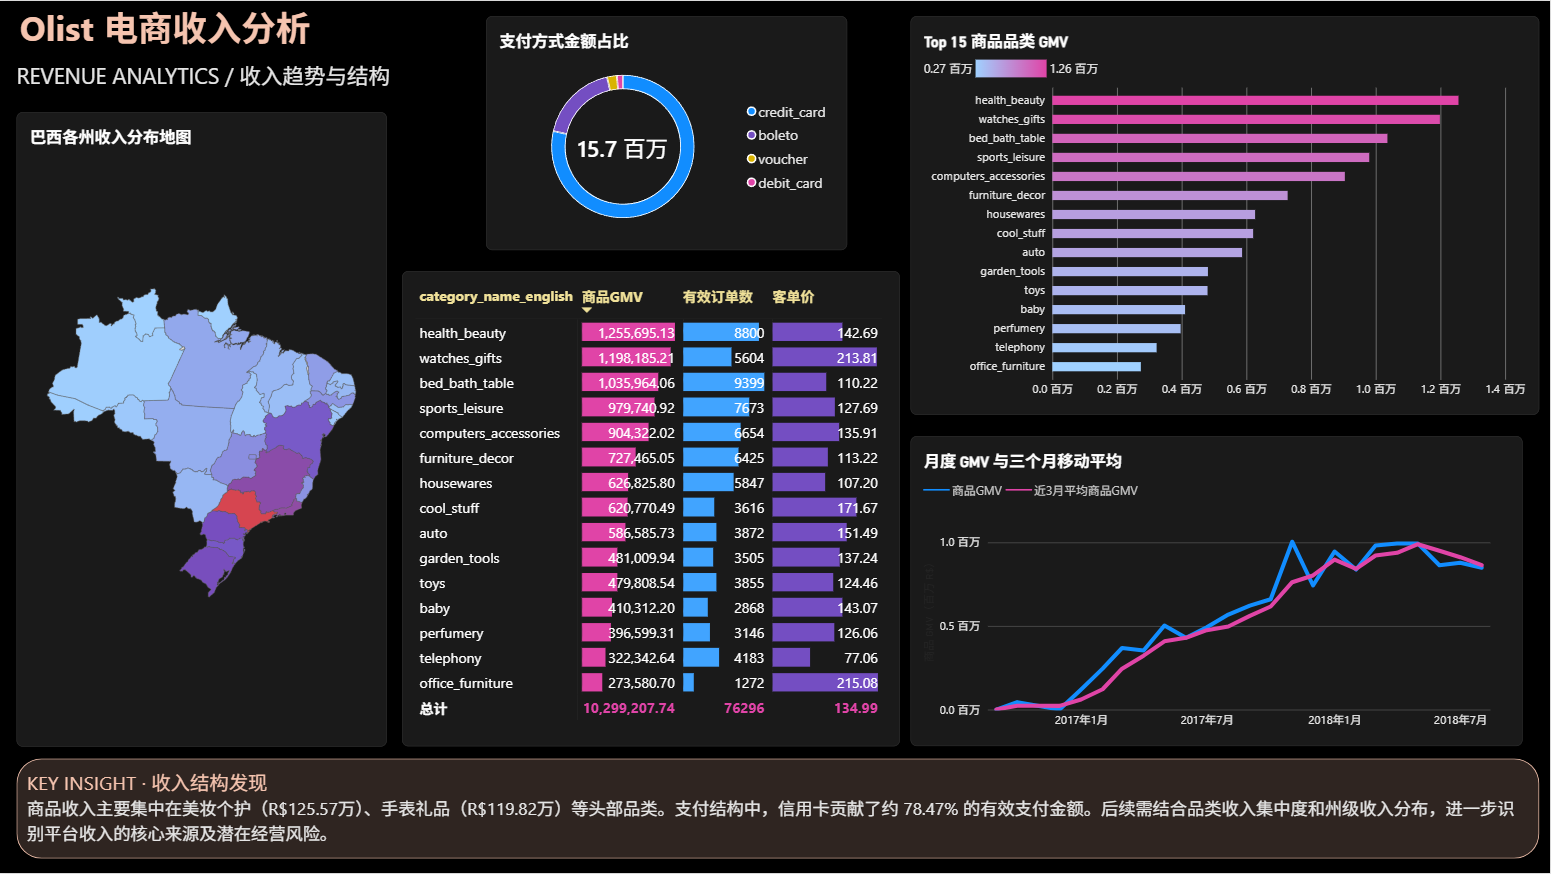

The page's visual inventory and layout, read from the dashboard file:
{"tool":"powerbi","page":{"name":"02 | 收入分析","canvas":[1920,1080],"ordinal":1},"visuals":[{"type":"lineChart","title":"月度 GMV 与三个月移动平均","fields":{"Category":["bi_dim_date.month_start"],"Y":["bi_fact_order_items.商品GMV","bi_fact_order_items.近3月平均商品GMV"]},"box":[1127.9,539.5,757.8,384.1],"z":0},{"type":"textbox","box":[0,0,408.5,73],"z":1000},{"type":"textbox","box":[20.9,73,1484.3,64.3],"z":2000},{"type":"shape","box":[21,937.6,1885.7,124],"z":3000},{"type":"textbox","box":[33.2,949.8,1852.5,131],"z":4000},{"type":"barChart","title":"Top 15 商品品类 GMV","fields":{"Category":["bi_dim_products.category_name_english"],"Y":["bi_fact_order_items.商品GMV"]},"box":[1127.9,19.2,778.7,494.1],"z":5000},{"type":"shapeMap","title":"巴西各州收入分布地图","fields":{"Category":["bi_dim_customers.州名_地图"],"Value":["bi_fact_order_items.商品GMV"]},"box":[20.4,137.5,458.8,785.7],"z":6000},{"type":"pivotTable","title":"Top 15 商品品类 GMV","fields":{"Rows":["bi_dim_products.category_name_english"],"Values":["bi_fact_order_items.商品GMV","bi_dim_date.有效订单数","bi_dim_date.客单价"]},"box":[497.8,334.3,616.7,588.8],"z":7000},{"type":"donutChart","title":"支付方式金额占比","fields":{"Category":["bi_fact_payments.payment_type"],"Y":["bi_fact_payments.有效支付金额"]},"box":[601.8,18.6,447.7,289.8],"z":8000}]}

Visuals, with their boxes in screenshot pixels (x1, y1, x2, y2), scaled from the page's 1920x1080 canvas onto the 1551x874 screenshot:
"月度 GMV 与三个月移动平均" lineChart: x1=911 y1=437 x2=1523 y2=747
textbox: x1=0 y1=0 x2=330 y2=59
textbox: x1=17 y1=59 x2=1216 y2=111
shape: x1=17 y1=759 x2=1540 y2=859
textbox: x1=27 y1=769 x2=1523 y2=873
"Top 15 商品品类 GMV" barChart: x1=911 y1=16 x2=1540 y2=415
"巴西各州收入分布地图" shapeMap: x1=16 y1=111 x2=387 y2=747
"Top 15 商品品类 GMV" pivotTable: x1=402 y1=271 x2=900 y2=747
"支付方式金额占比" donutChart: x1=486 y1=15 x2=848 y2=250
